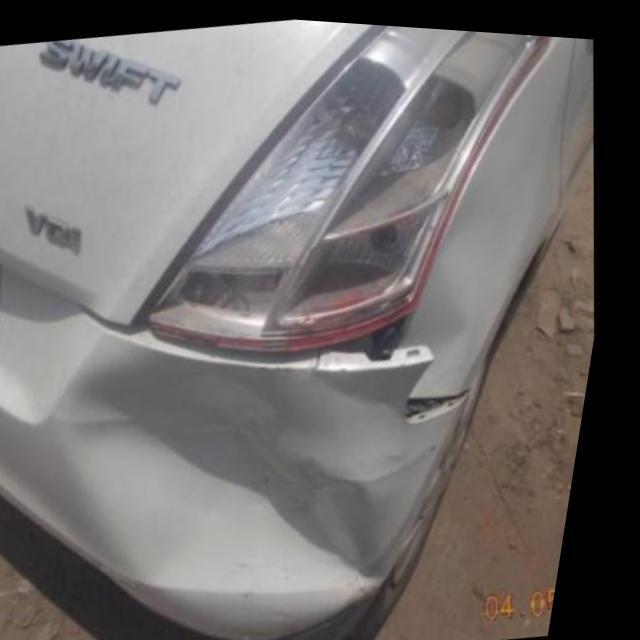dent: (83, 346, 448, 594)
dislocated part: (178, 249, 486, 427)
lamp broken: (176, 20, 541, 330)
